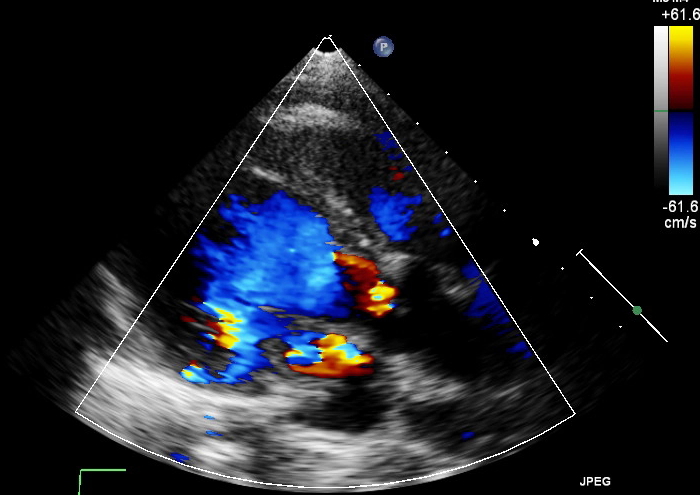AR: (333, 251, 402, 317)
